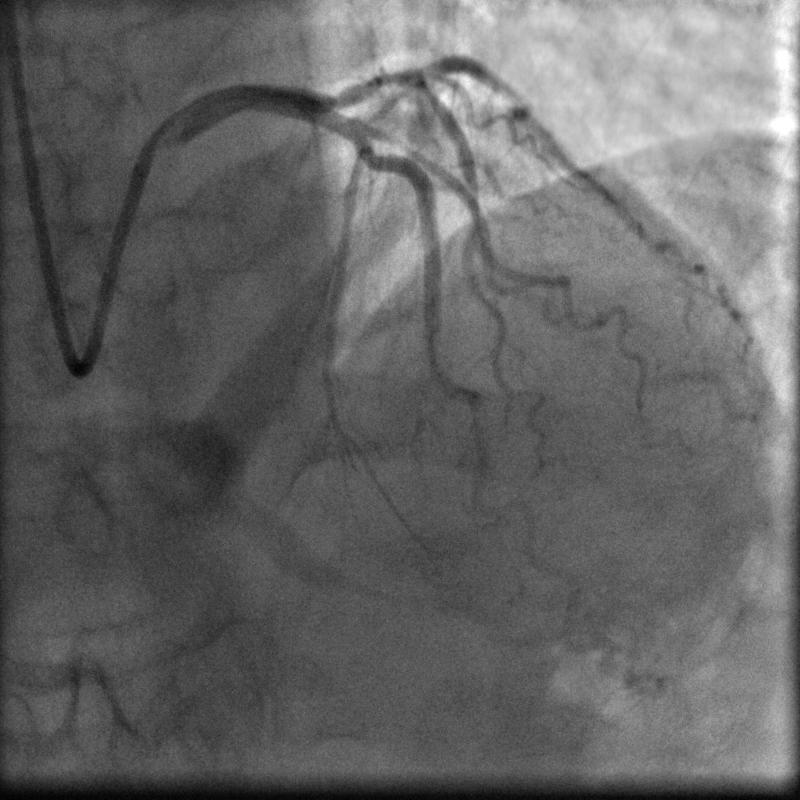Stenosis: (317, 71, 381, 113)
